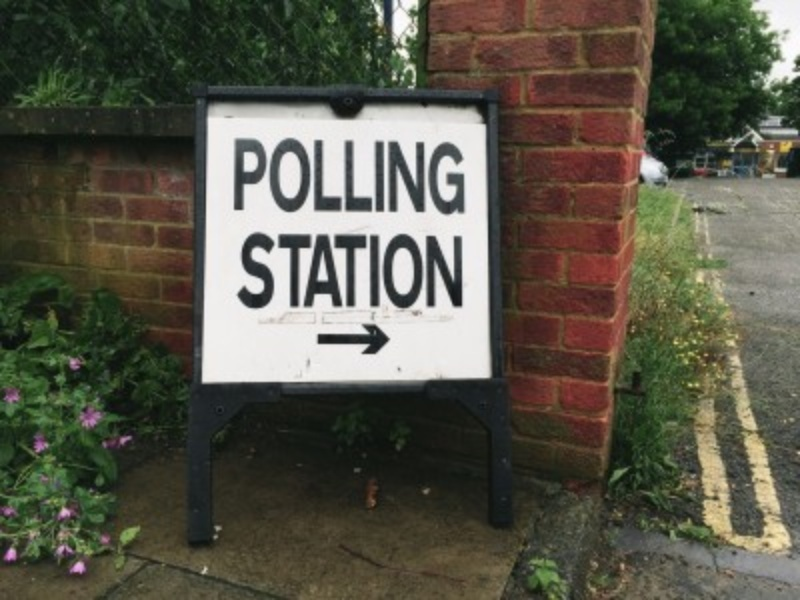text: (257, 229, 272, 311), (273, 229, 288, 311), (289, 229, 304, 311), (305, 229, 320, 311), (321, 229, 336, 311), (337, 229, 352, 311), (353, 229, 368, 311), (369, 229, 384, 311), (385, 229, 400, 311), (401, 229, 416, 311), (417, 229, 432, 311), (433, 229, 448, 311), (449, 229, 464, 311), (241, 137, 256, 217), (257, 137, 272, 217), (273, 137, 288, 217), (289, 137, 304, 217), (305, 137, 320, 217), (321, 137, 336, 217), (337, 137, 352, 217), (353, 137, 368, 217), (369, 137, 384, 217), (385, 137, 400, 217), (401, 137, 416, 217), (417, 137, 432, 217), (433, 137, 448, 217), (449, 137, 464, 217), (243, 229, 256, 311), (230, 137, 240, 217), (465, 137, 469, 217), (465, 229, 467, 311)
